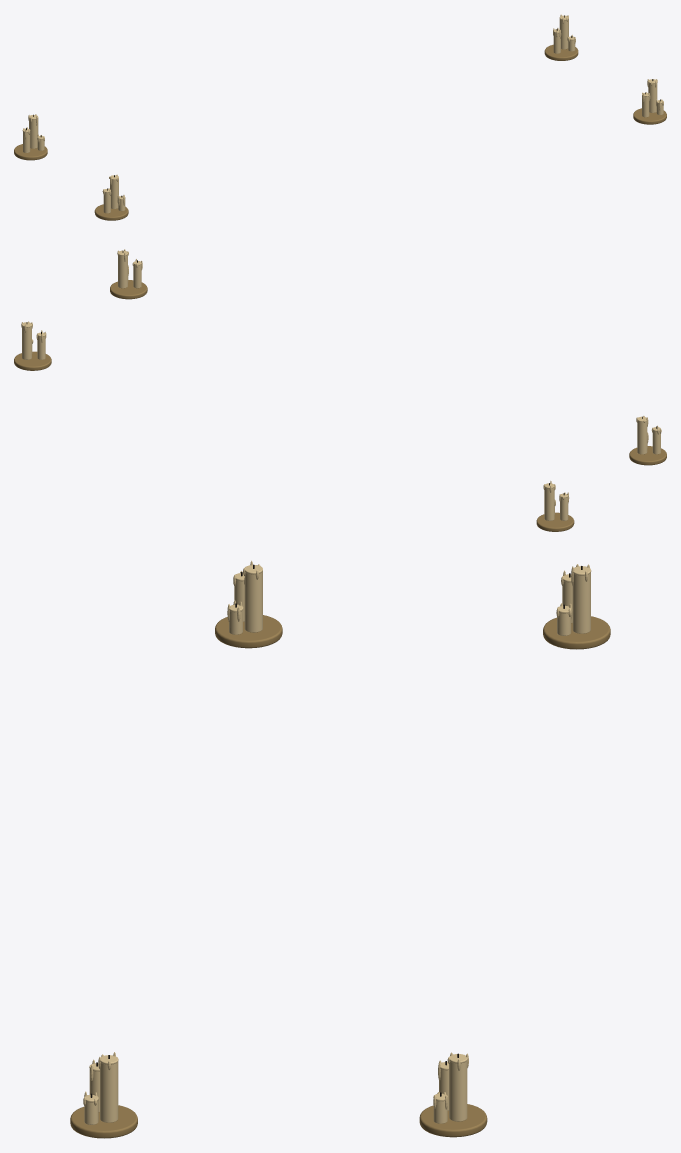
Rendered from candle-clusters-v1.glb.
3 views of the same model, one above another, from view 1: azimuth 30°, elevation 25°; view 2: azimuth 150°, elevation 25°; view 3: azimuth 270°, elevation 25° (orthographic). The views are drawn at different scales.
Visible parts, largest first — view 1: Candle cluster bronze tray, Candle cluster bronze tray.003, Candle cluster bronze tray.002, Candle cluster bronze tray.001; view 2: Candle cluster bronze tray.002, Candle cluster bronze tray, Candle cluster bronze tray.001, Candle cluster bronze tray.003; view 3: Candle cluster bronze tray.002, Candle cluster bronze tray.001, Candle cluster bronze tray.003, Candle cluster bronze tray, Candle 0.1 wax body, Candle 1.1 wax body, Candle 2.1 wax body, Candle 3.1 wax body.
Boxes of the visible parts, x1,y1,x2,y2 form: Candle cluster bronze tray: (94, 204, 128, 220); Candle cluster bronze tray.003: (14, 144, 47, 160); Candle cluster bronze tray.002: (544, 44, 578, 60); Candle cluster bronze tray.001: (633, 108, 666, 124); Candle cluster bronze tray.002: (14, 351, 51, 370); Candle cluster bronze tray: (629, 446, 666, 465); Candle cluster bronze tray.001: (110, 280, 147, 299); Candle cluster bronze tray.003: (536, 512, 574, 531); Candle cluster bronze tray.002: (419, 1104, 487, 1137); Candle cluster bronze tray.001: (70, 1105, 137, 1138); Candle cluster bronze tray.003: (543, 616, 610, 649); Candle cluster bronze tray: (215, 615, 282, 648); Candle 0.1 wax body: (244, 571, 262, 632); Candle 1.1 wax body: (100, 1061, 118, 1122); Candle 2.1 wax body: (449, 1061, 467, 1121); Candle 3.1 wax body: (572, 573, 590, 633).
Size of the model in its own units: 17.4 by 1.17 by 7.66.
